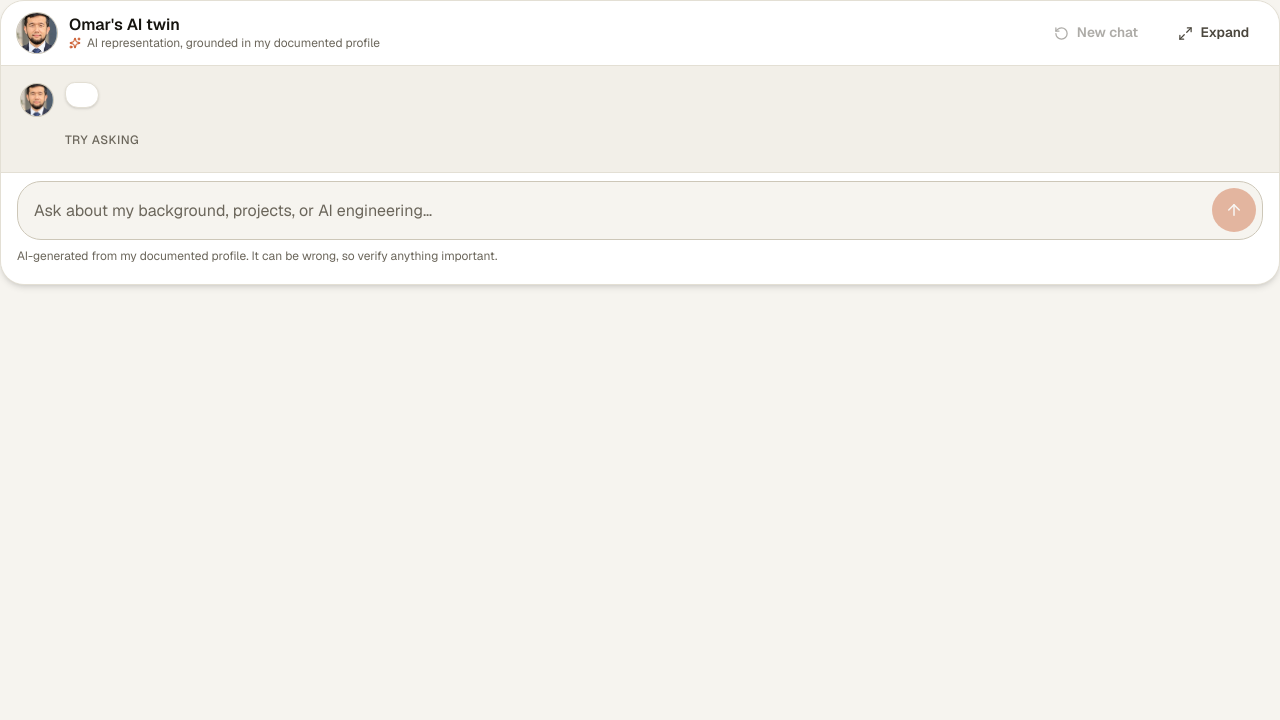
it: digital twin chat › sends a message, renders markdown and code, and offers sources and follow-ups
In the text box named "Message to Omar": (619, 211) [34,190,1204,232], type "What do you do at PNC?"
Then press Enter
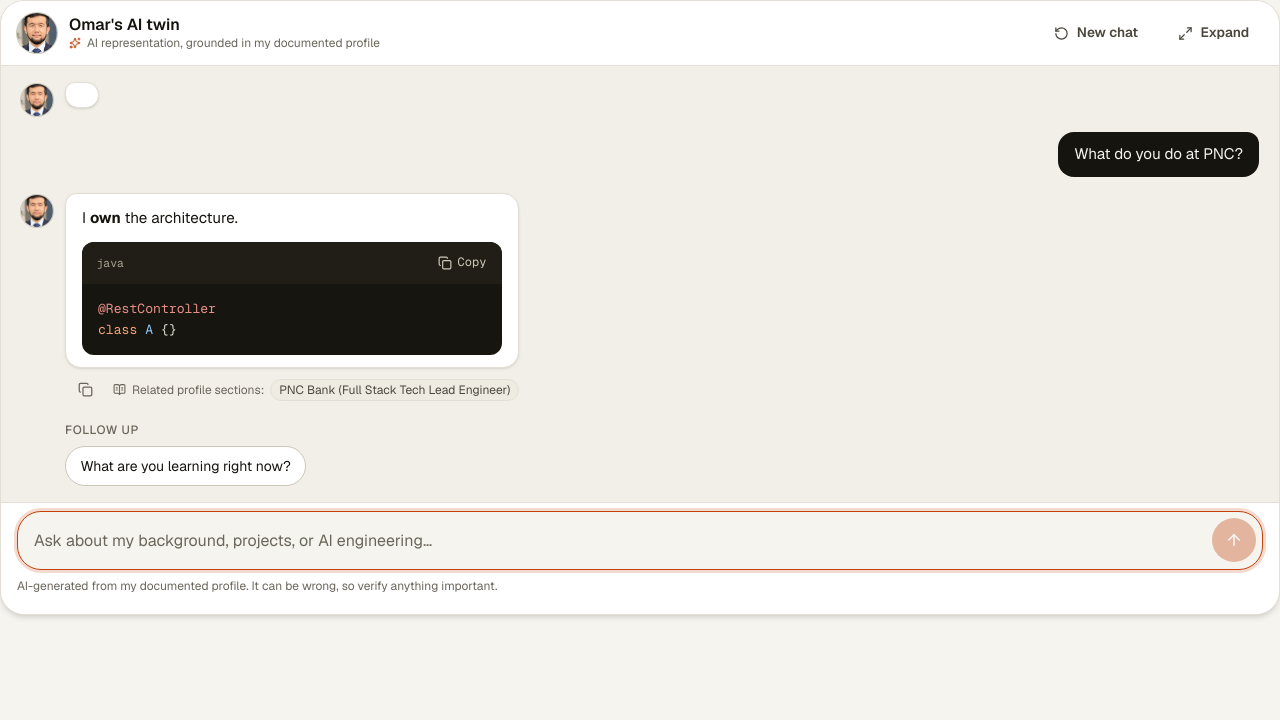
Expected: the text "What do you do at PNC?" is shown, [1058,132,1259,177]
Expected: the text "own" is shown, [90,208,121,227]
Expected: the button with aria-label "Copy code" is shown, [428,247,496,279]
